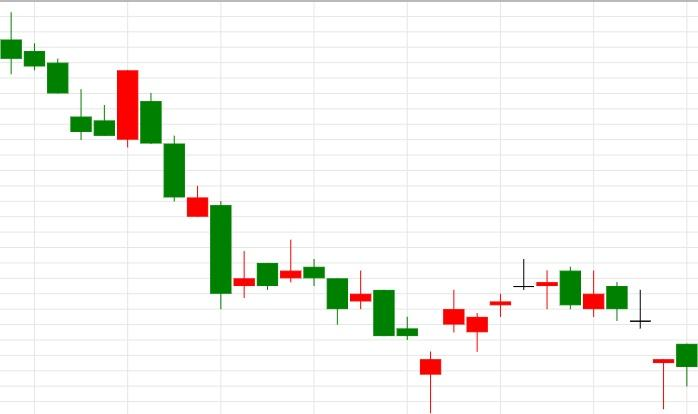bearish_engulfing_fall: (419, 259, 582, 413)
bullish_engulfing_rise: (0, 12, 139, 147)
hammer_rise: (303, 258, 442, 414)
